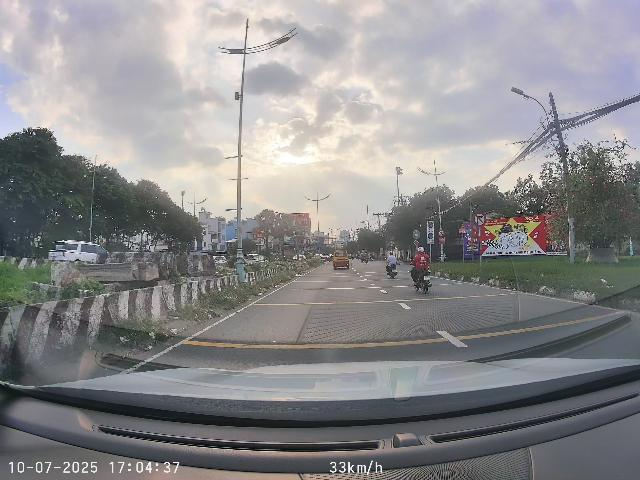123b-cam-re-phai: (473, 212, 486, 227)
